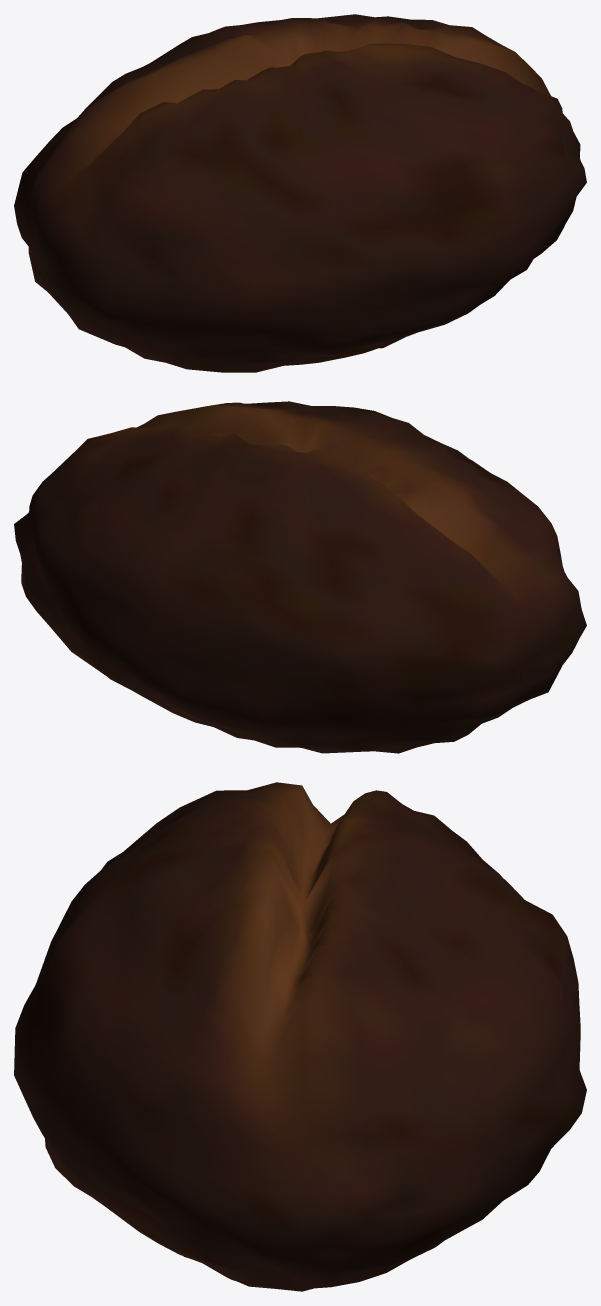
The model's file is bean.glb.
The picture shows the model from 3 angles, top to bottom: view 1: azimuth 30°, elevation 25°; view 2: azimuth 150°, elevation 25°; view 3: azimuth 270°, elevation 25°; orthographic projection. The views are drawn at different scales.
Parts seen in each view (by area): view 1: bean; view 2: bean; view 3: bean.
Boxes of the visible parts, left/top/right/bottom form: bean: left=14, top=14, right=586, bottom=372; bean: left=14, top=401, right=586, bottom=753; bean: left=14, top=782, right=586, bottom=1291.
Size of the model in its own units: 2.02 by 1.07 by 1.47.
